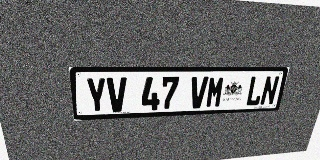4: (141, 77, 161, 111)
7: (160, 77, 179, 110)
L: (245, 76, 265, 106)
M: (205, 76, 225, 108)
N: (259, 76, 280, 106)
V: (107, 77, 127, 112), (189, 76, 209, 109)
Y: (85, 77, 107, 113)
